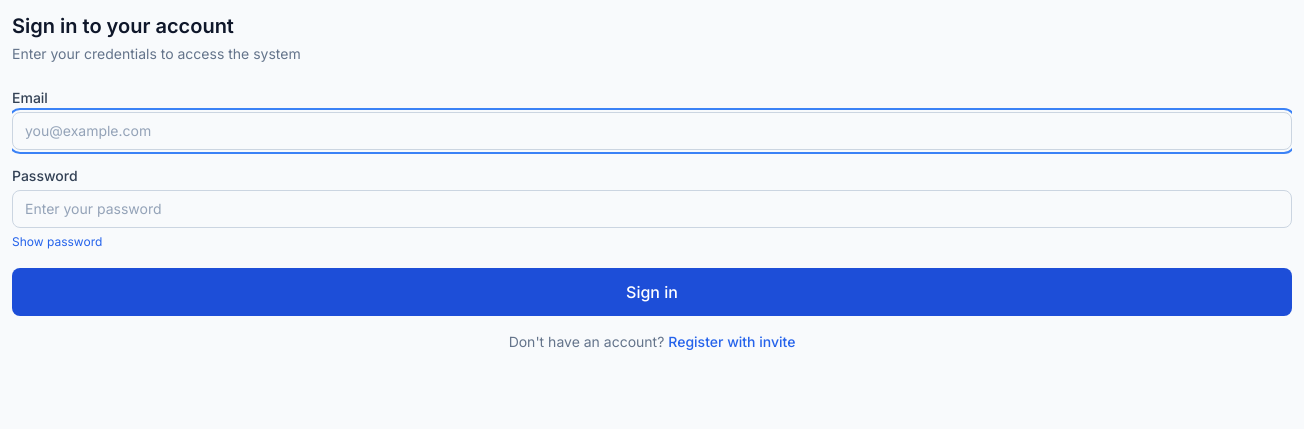
Test case: LoginPage › shows rate limit error (429)
The width and height of the screenshot is (1304, 429).
Type "test@example.com" into the field labelled "Email". click: (652, 131)
box: [12, 112, 1292, 150]
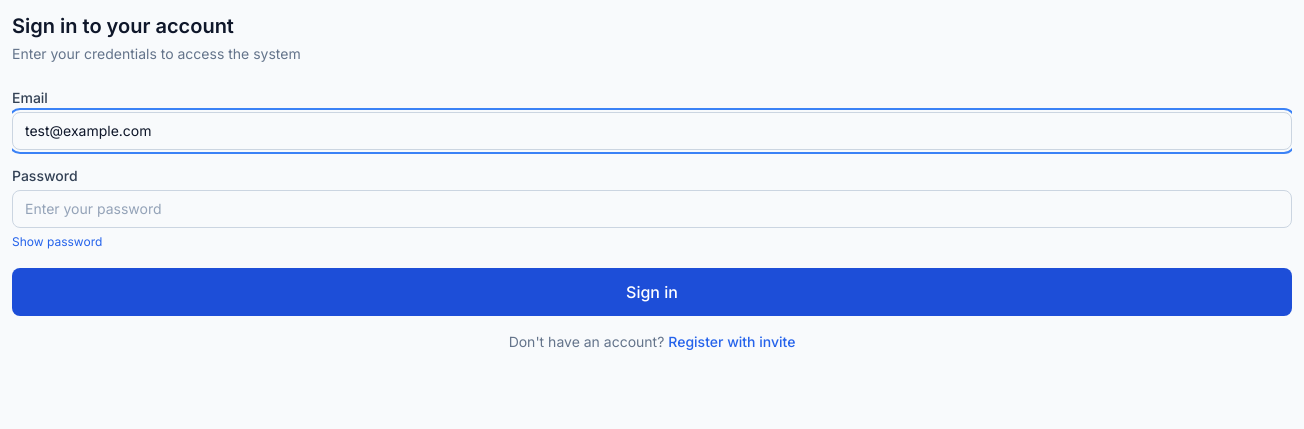
Type "Password1" into the password field labelled "Password". click: (652, 209)
box: [12, 190, 1292, 228]
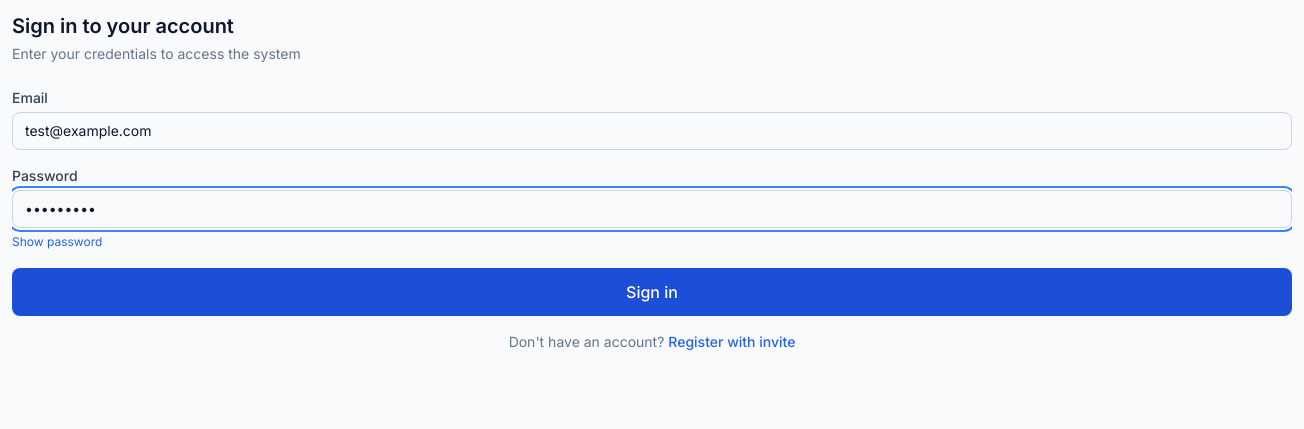
Click the button "Sign in". click: (652, 292)
box: [12, 268, 1292, 316]
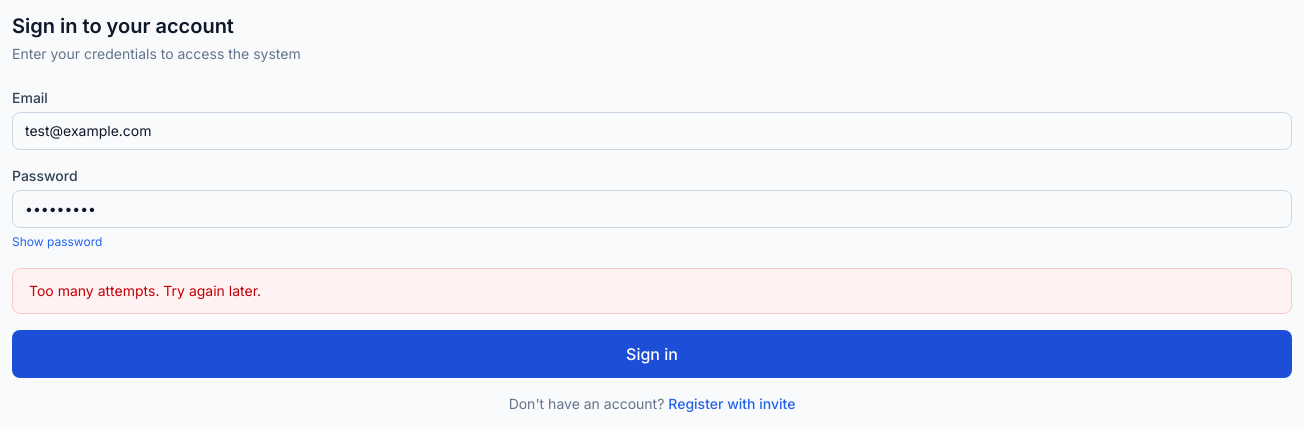
Expected: the text "Too many attempts. Try again later." is shown, [12, 268, 1292, 314]
